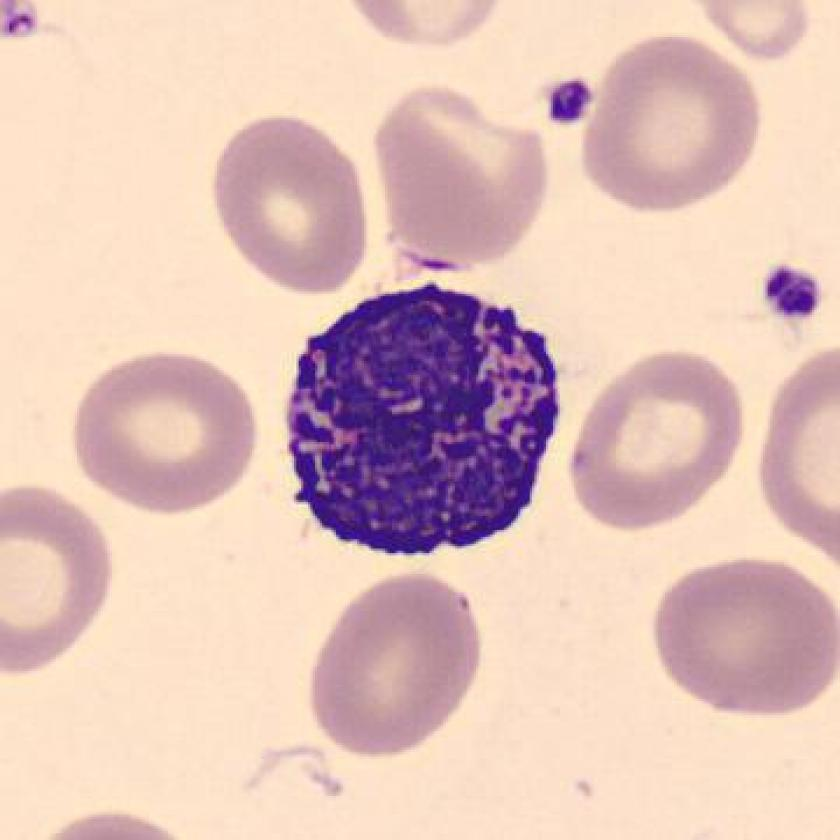basophil: (277, 288, 578, 570)
